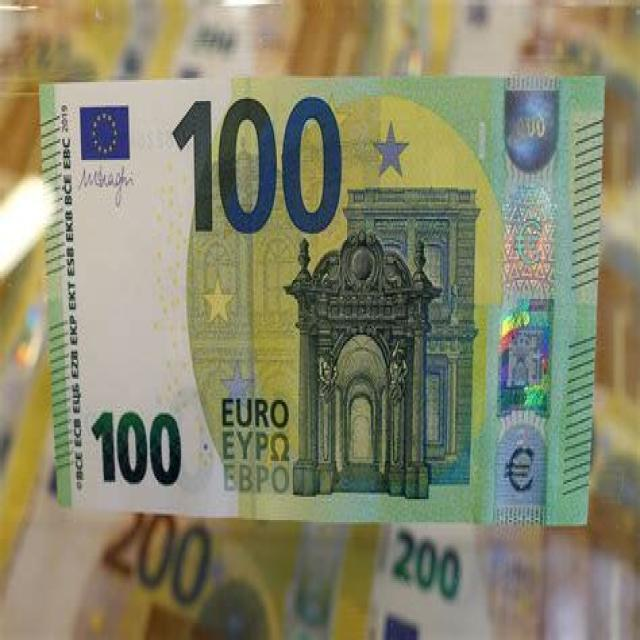banknote: (36, 72, 607, 533), (166, 86, 347, 249), (95, 508, 219, 610), (89, 403, 188, 491), (380, 525, 476, 607), (512, 108, 552, 151)
